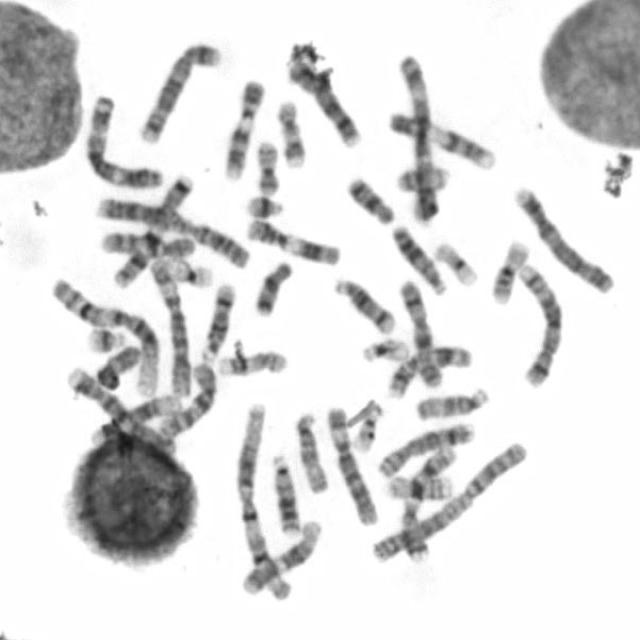A1: (47, 273, 162, 399), (231, 398, 292, 602)
A2: (367, 436, 530, 564), (93, 193, 252, 270)
A3: (80, 89, 165, 191), (393, 49, 439, 224)
B4: (510, 182, 617, 295), (61, 367, 183, 465)
B5: (134, 37, 223, 146), (514, 261, 564, 388)
C10: (153, 358, 220, 440), (95, 228, 196, 258)
C11: (383, 341, 474, 400), (242, 215, 342, 267)
C12: (237, 516, 324, 596), (89, 396, 184, 449)
C6: (322, 400, 380, 528), (147, 251, 192, 399)
C7: (113, 172, 196, 294), (390, 450, 462, 560)
C8: (285, 58, 362, 149), (375, 418, 476, 479)
C9: (384, 106, 498, 172), (220, 75, 266, 183)
D13: (389, 221, 448, 297), (266, 449, 300, 537)
D14: (331, 275, 397, 335), (198, 278, 238, 362)
D15: (292, 407, 331, 495), (412, 383, 491, 423)
E16: (487, 237, 531, 304), (382, 469, 456, 502)
E17: (272, 97, 308, 173), (213, 345, 290, 380)
E18: (343, 173, 396, 226), (249, 257, 293, 318)
F19: (430, 238, 479, 288), (168, 256, 215, 289)
F20: (391, 160, 450, 194), (251, 135, 281, 196)
G21: (84, 324, 127, 354), (242, 192, 285, 219)
G22: (350, 396, 386, 455), (358, 334, 410, 364)
X: (394, 275, 443, 390)
Y: (98, 345, 143, 389)
